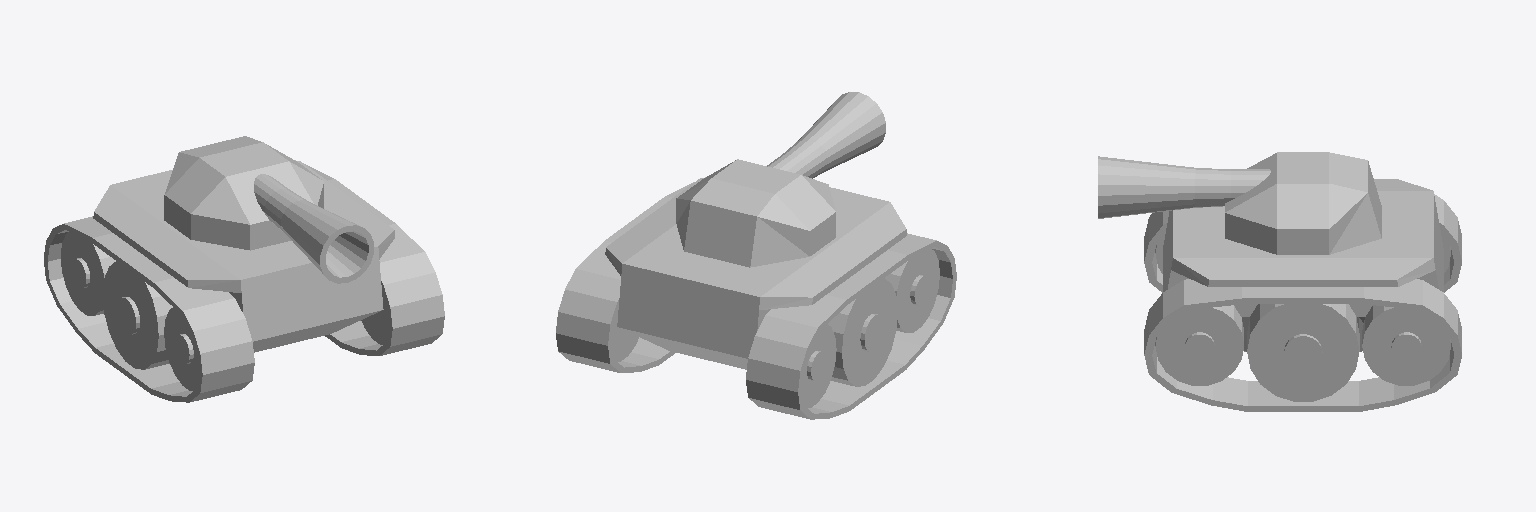
File: enemy.obj
3 renders of one model, left to right at view 1: azimuth 30°, elevation 25°; view 2: azimuth 150°, elevation 25°; view 3: azimuth 270°, elevation 25°, orthographic.
Visible parts, largest first — view 1: Tank_low_Cylinder.002; view 2: Tank_low_Cylinder.002; view 3: Tank_low_Cylinder.002.
Boxes of the visible parts, x1=… form: Tank_low_Cylinder.002: x1=44, y1=136, x2=444, y2=402; Tank_low_Cylinder.002: x1=556, y1=92, x2=956, y2=419; Tank_low_Cylinder.002: x1=1098, y1=152, x2=1461, y2=411.
Bounding box in the file's own units: 3.52 × 2.69 × 4.59.